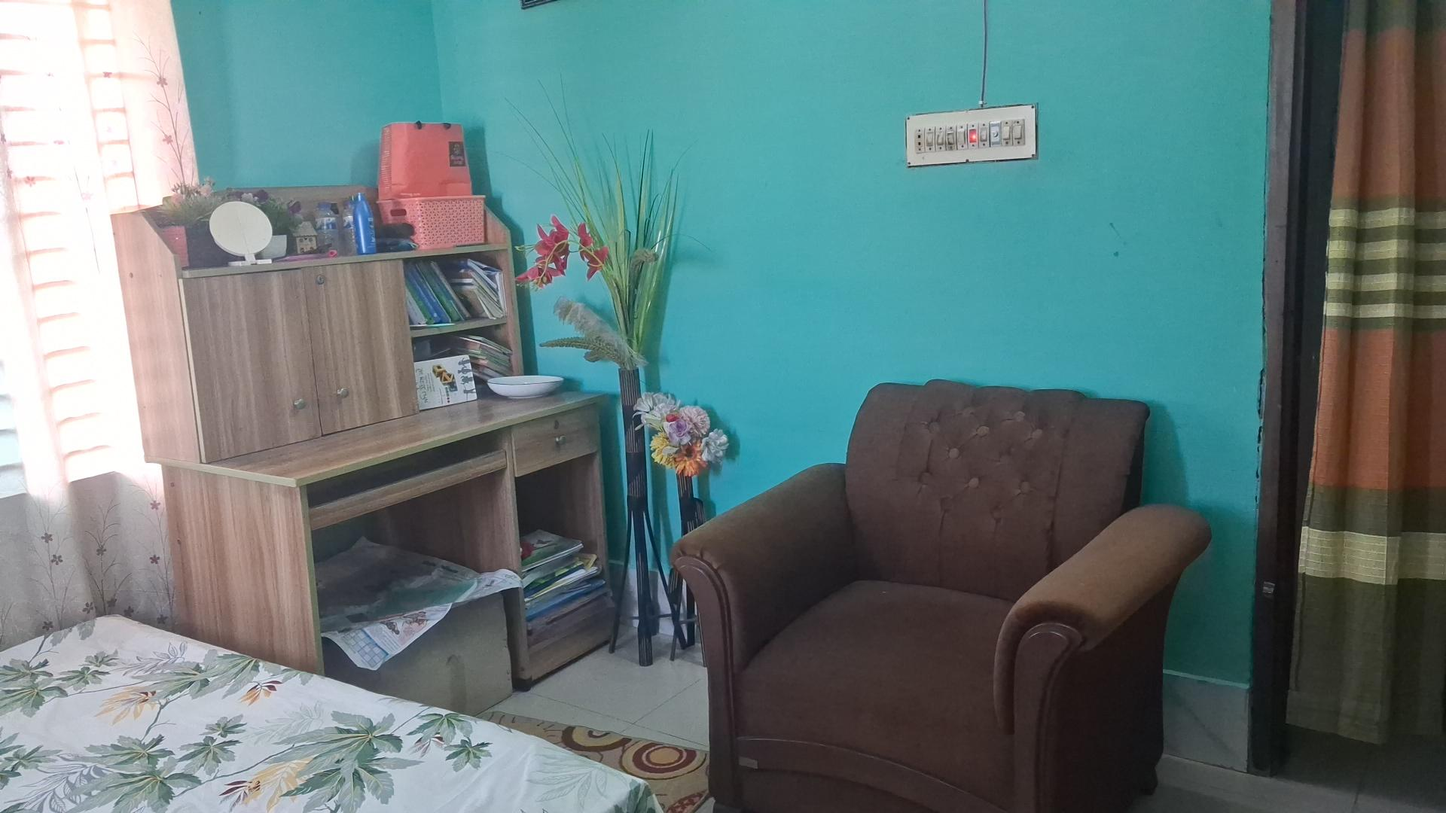Bag: (380, 124, 475, 196)
Basket: (390, 196, 483, 244)
Book: (406, 351, 476, 407)
Bottle: (353, 191, 377, 251), (315, 203, 337, 256)
Bowl: (490, 373, 564, 402)
Drawer: (511, 418, 598, 483)
Table: (124, 184, 609, 698)
